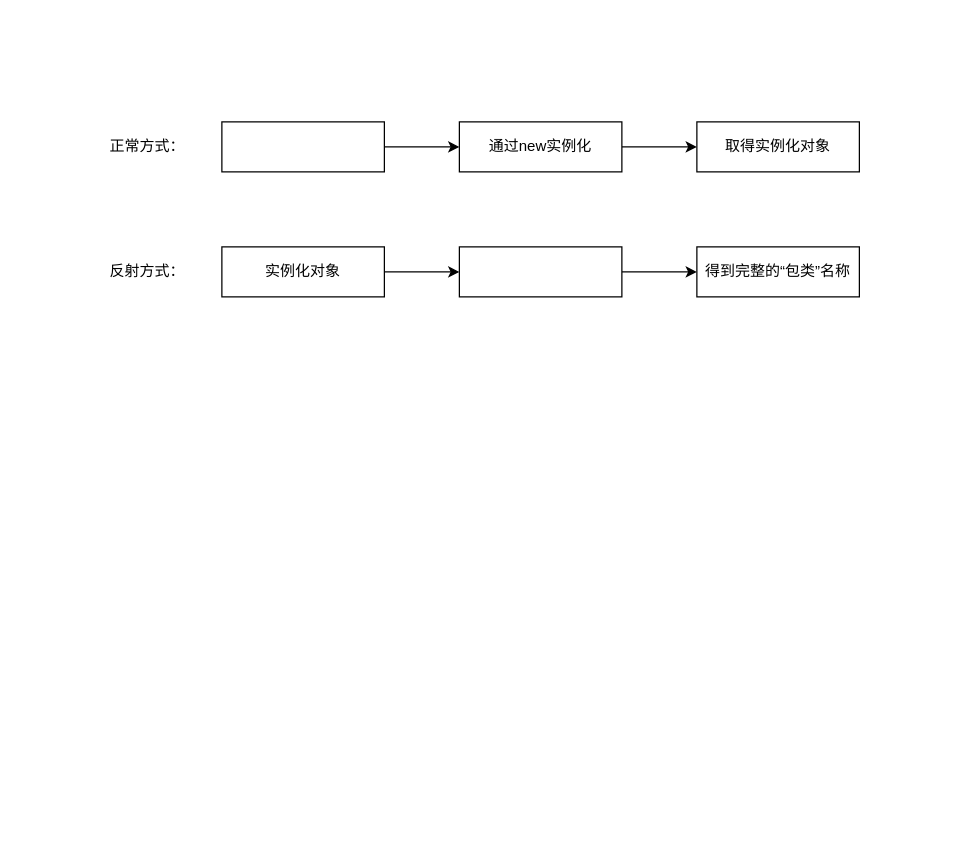
Image size: 980x843. Some labels were removed from this diagram. Here are the shapes that lost their labels. From the top down, the centre of each, then its label:
At (302,146): "引入需要的“包类”名称".
At (540,271): "getClass()方法".
